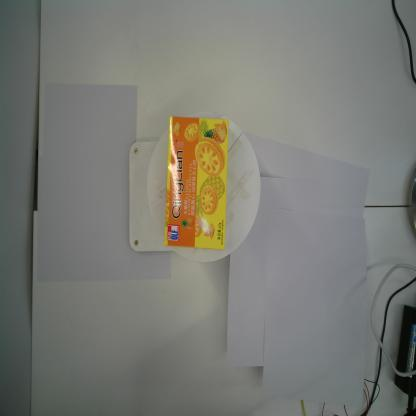Dessert: (164, 116, 230, 250)
